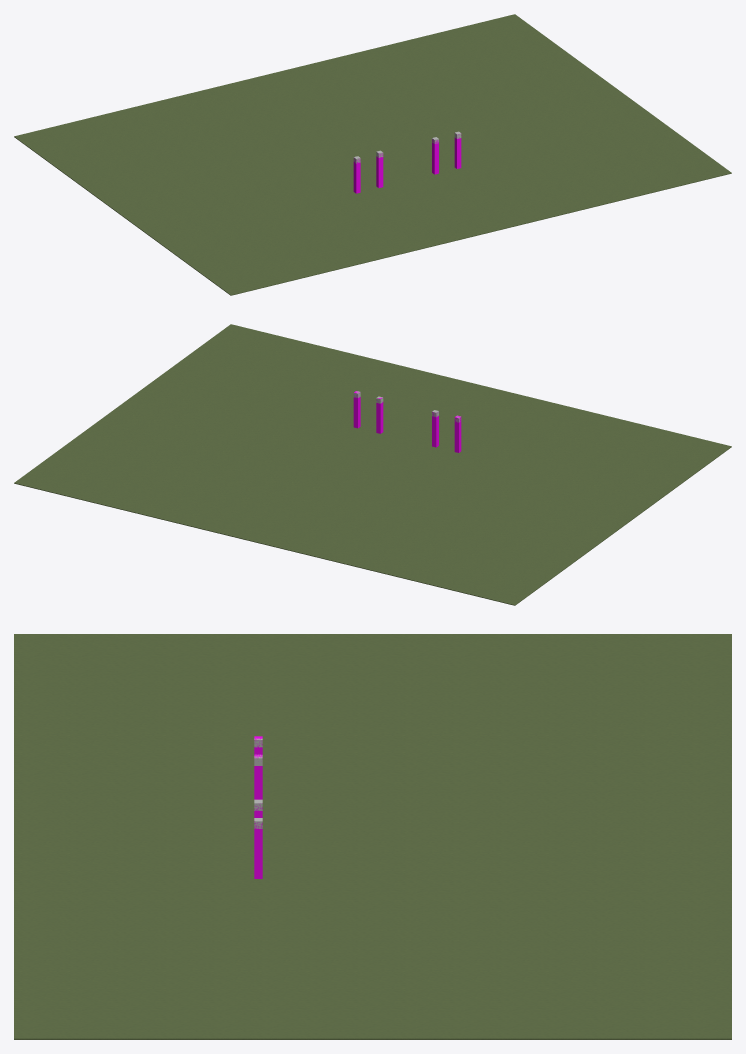
Rendered from props.glb.
The picture shows the model from 3 angles, top to bottom: view 1: azimuth 30°, elevation 25°; view 2: azimuth 150°, elevation 25°; view 3: azimuth 270°, elevation 25°; orthographic projection. The views are drawn at different scales.
Parts seen in each view (by area): view 1: tanah_slab; view 2: tanah_slab; view 3: tanah_slab.
Part boxes in pixels (box(x1,y1,x2,y2)): tanah_slab: box(14, 14, 731, 295); tanah_slab: box(14, 324, 731, 605); tanah_slab: box(14, 634, 731, 1039).
Size of the model in its own units: 80 by 5.4 by 60.
Materials: 4 (1 with a texture image).
